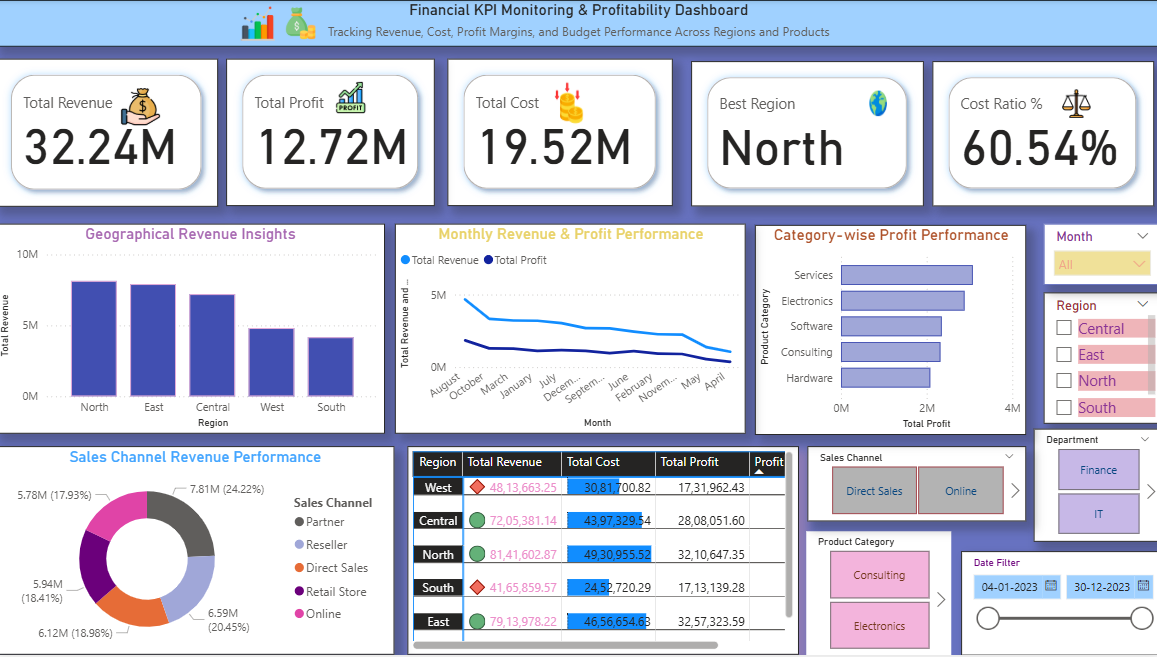

This screenshot's page, from the dashboard's own definition file:
{"tool":"powerbi","page":{"name":"Dashboard","canvas":[1280,720],"ordinal":0},"visuals":[{"type":"pivotTable","fields":{"Rows":["Financial_KPI_Data.Region"],"Values":["Financial_KPI_Data.Total Revenue","Financial_KPI_Data.Total Cost","Financial_KPI_Data.Net Profit c","Financial_KPI_Data.Profit Margin % c"]},"box":[452.2,490.4,429.3,229.2],"z":0},{"type":"slicer","fields":{"Values":["Financial_KPI_Data.Region"]},"box":[1152,320.8,128.3,143.6],"z":1000},{"type":"slicer","fields":{"Values":["Financial_KPI_Data.Department"]},"box":[1139.8,470.6,140.6,123.8],"z":2000},{"type":"slicer","fields":{"Values":["Financial_KPI_Data.Product Category"]},"box":[890.7,583.6,158.9,136],"z":3000},{"type":"slicer","fields":{"Values":["Financial_KPI_Data.Month"]},"box":[1152,246,128.3,67.2],"z":4000},{"type":"slicer","fields":{"Values":["Financial_KPI_Data.Sales Channel"]},"box":[892.2,490.4,239.9,82.5],"z":5000},{"type":"slicer","fields":{"Values":["Financial_KPI_Data.Date"]},"box":[1060.3,605,220,114.6],"z":6000},{"type":"textbox","title":"Financial KPI Monitoring & Profitability Dashboard","box":[0,0,1280,51.3],"z":7000},{"type":"clusteredColumnChart","title":"Regional Revenue Performance","fields":{"Category":["Financial_KPI_Data.Region"],"Y":["Financial_KPI_Data.Total Revenue"]},"box":[0,246,427.8,230.7],"z":8000},{"type":"clusteredBarChart","title":"Category-wise Profit Performance","fields":{"Y":["Financial_KPI_Data.Net Profit c"],"Category":["Financial_KPI_Data.Product Category"]},"box":[834.2,247.5,297.9,230.7],"z":9000},{"type":"lineChart","title":"Monthly Revenue & Profit Performance","fields":{"Category":["Financial_KPI_Data.Month"],"Y":["Financial_KPI_Data.Total Revenue","Financial_KPI_Data.Net Profit c"]},"box":[438.5,246,385,230.7],"z":10000},{"type":"donutChart","title":"Sales Channel Revenue Performance","fields":{"Y":["Financial_KPI_Data.Total Revenue"],"Category":["Financial_KPI_Data.Sales Channel"]},"box":[0,490.4,438.5,229.2],"z":11000},{"type":"cardVisual","title":"Total Revenue","fields":{"Data":["Financial_KPI_Data.Total Revenue"]},"box":[0,64.1,245.2,162.5],"z":12000},{"type":"cardVisual","fields":{"Data":["Financial_KPI_Data.Best Region"]},"box":[763.9,67.2,255.1,158.9],"z":13000},{"type":"cardVisual","fields":{"Data":["Financial_KPI_Data.Total Cost"]},"box":[496.5,64.2,247.5,161.9],"z":14000},{"type":"cardVisual","fields":{"Data":["Financial_KPI_Data.Cost Ratio %"]},"box":[1029.7,67.2,242.9,158.9],"z":15000},{"type":"image","box":[312.2,0,48.5,51.3],"z":16000},{"type":"image","box":[265.1,0,47,51.3],"z":17000},{"type":"image","box":[132.9,91.7,53.5,50.4],"z":18000},{"type":"cardVisual","fields":{"Data":["Financial_KPI_Data.Total Profit"]},"box":[253.6,64.2,229.2,161.9],"z":19000},{"type":"image","box":[368.2,85.6,45.8,44.3],"z":20000},{"type":"image","box":[608.1,85.6,44.3,56.5],"z":21000},{"type":"image","box":[954.9,94.7,29,38.2],"z":22000},{"type":"image","box":[1159.6,93.2,55,41.3],"z":23000}]}

Visuals, with their boxes in screenshot pixels (x1, y1, x2, y2), scaled from the page's 1280x720 canvas onto the 1157x657 screenshot:
pivotTable - Financial_KPI_Data.Region x Financial_KPI_Data.Total Revenue: Rect(409, 447, 797, 656)
slicer - Financial_KPI_Data.Region: Rect(1041, 293, 1156, 424)
slicer - Financial_KPI_Data.Department: Rect(1030, 429, 1156, 542)
slicer - Financial_KPI_Data.Product Category: Rect(805, 533, 949, 656)
slicer - Financial_KPI_Data.Month: Rect(1041, 224, 1156, 286)
slicer - Financial_KPI_Data.Sales Channel: Rect(806, 447, 1023, 523)
slicer - Financial_KPI_Data.Date: Rect(958, 552, 1156, 656)
"Financial KPI Monitoring & Profitability Dashboard" textbox: Rect(0, 0, 1156, 47)
"Regional Revenue Performance" clusteredColumnChart: Rect(0, 224, 387, 435)
"Category-wise Profit Performance" clusteredBarChart: Rect(754, 226, 1023, 436)
"Monthly Revenue & Profit Performance" lineChart: Rect(396, 224, 744, 435)
"Sales Channel Revenue Performance" donutChart: Rect(0, 447, 396, 656)
"Total Revenue" cardVisual: Rect(0, 58, 222, 207)
cardVisual - Financial_KPI_Data.Best Region: Rect(690, 61, 921, 206)
cardVisual - Financial_KPI_Data.Total Cost: Rect(449, 59, 673, 206)
cardVisual - Financial_KPI_Data.Cost Ratio %: Rect(931, 61, 1150, 206)
image: Rect(282, 0, 326, 47)
image: Rect(240, 0, 282, 47)
image: Rect(120, 84, 168, 130)
cardVisual - Financial_KPI_Data.Total Profit: Rect(229, 59, 436, 206)
image: Rect(333, 78, 374, 119)
image: Rect(550, 78, 590, 130)
image: Rect(863, 86, 889, 121)
image: Rect(1048, 85, 1098, 123)
